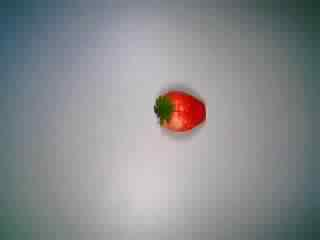strawberry: (143, 78, 211, 142)
